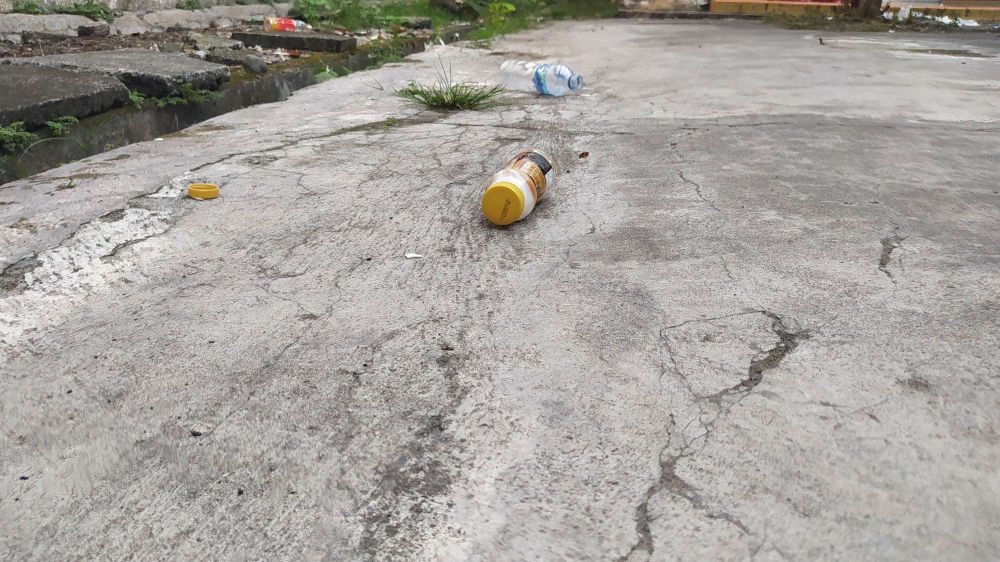botol: (488, 132, 568, 238)
